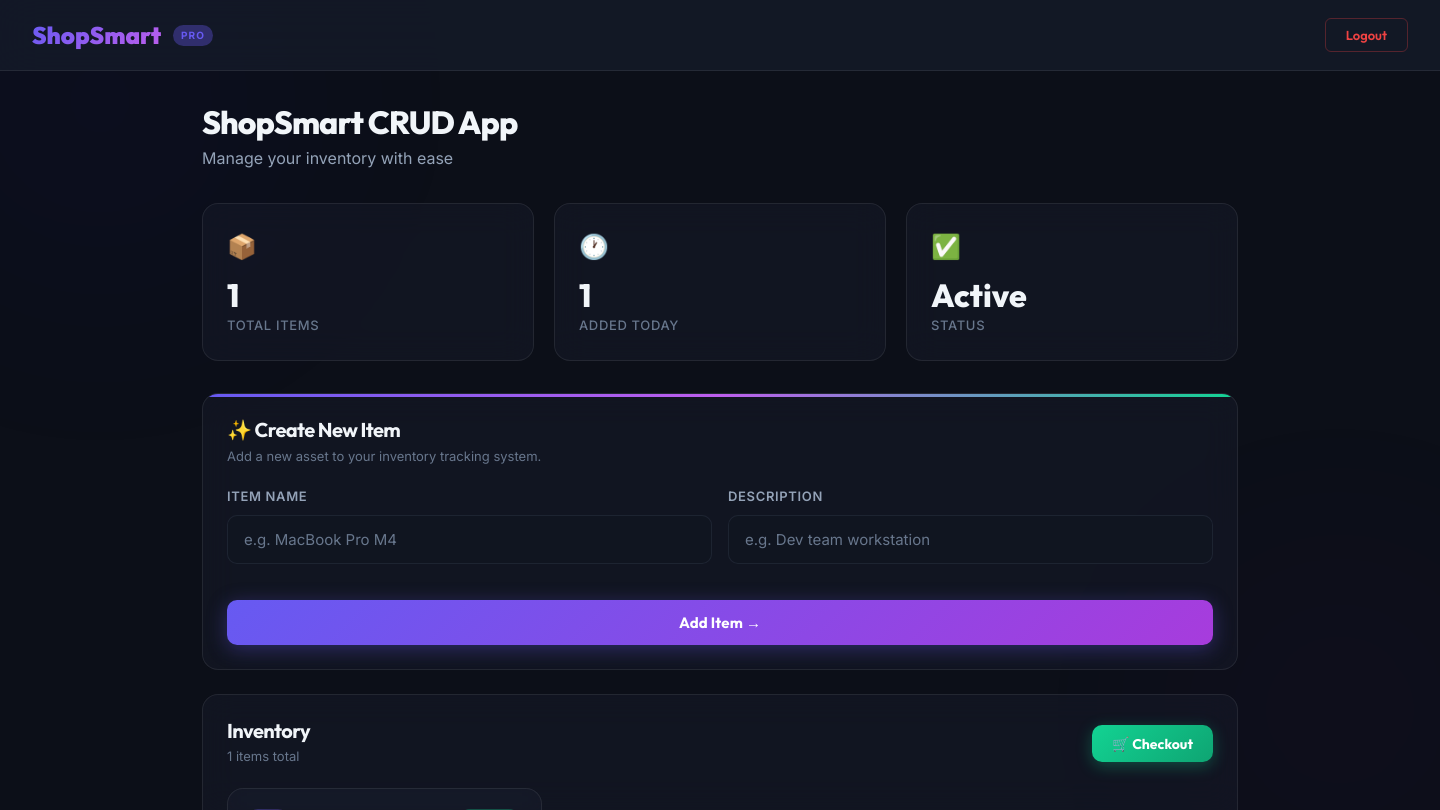
ItemsPage Component › handles checkout sequence
Click the button "🛒 Checkout".
click(1152, 744)  # box [1092, 725, 1213, 762]
(page scrolled)
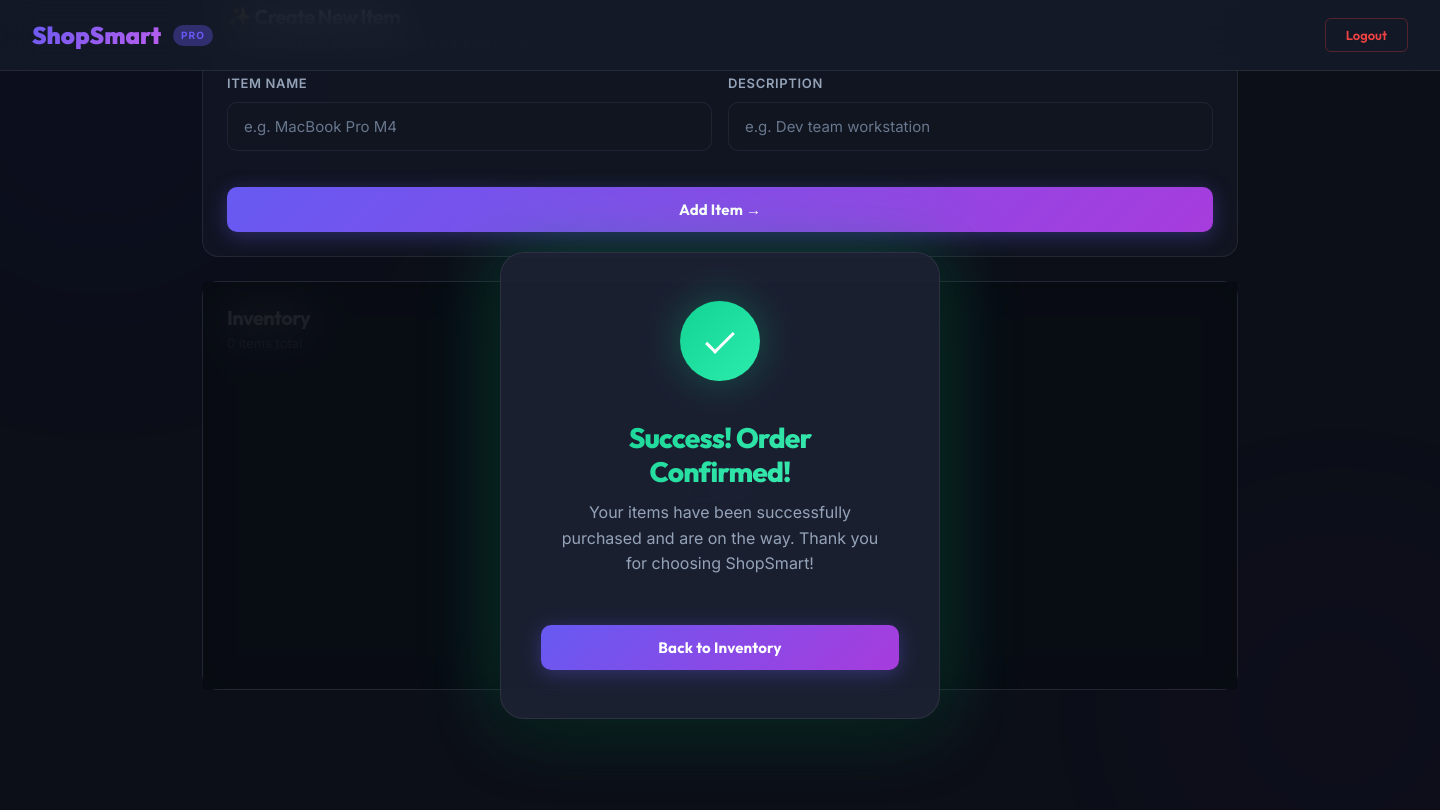
expect the heading "Success! Order Confirmed!" is shown: met, box [557, 421, 883, 488]
expect the text "No items found" is shown: met, box [662, 547, 778, 567]
